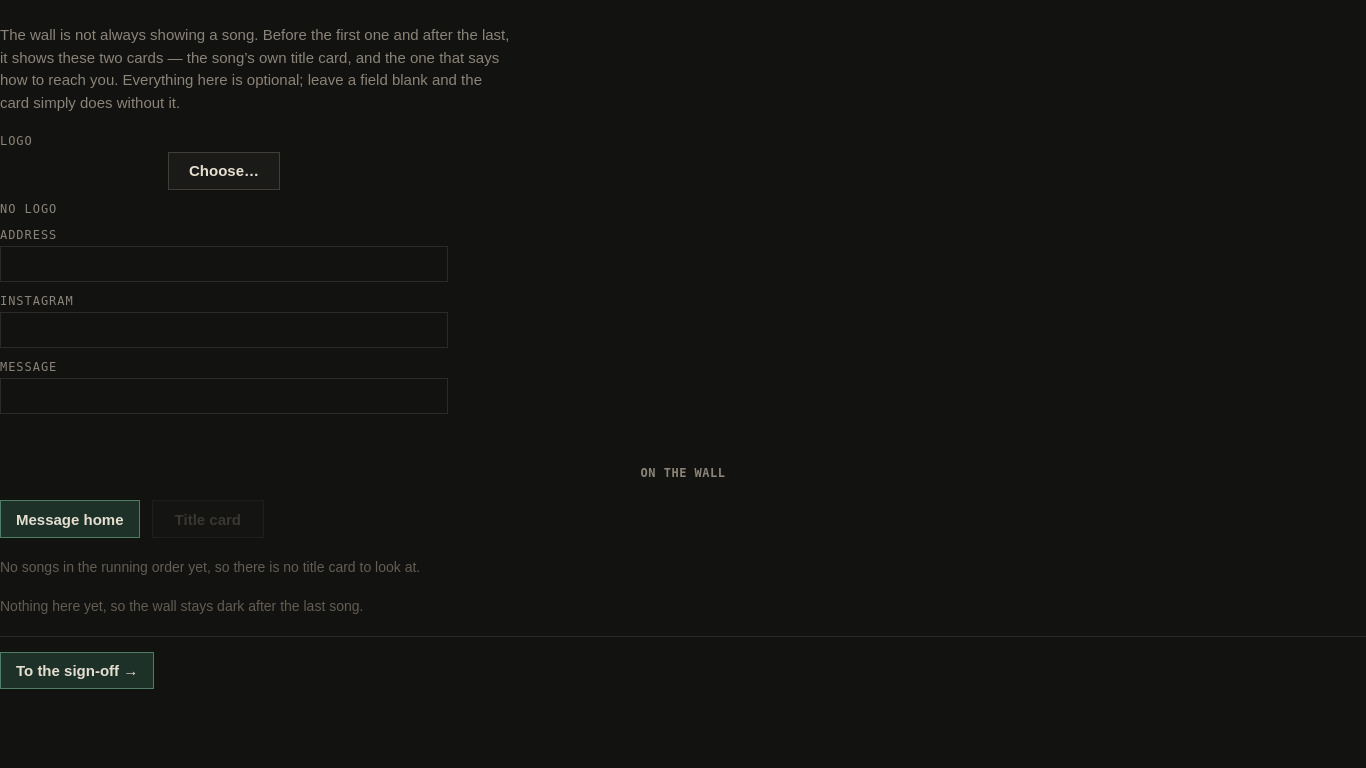
Scenario: the logo picker inherits the visuals-folder guard › says so when there is no visuals folder at all
This screenshot has width=1366, height=768.
Click the button with test id "gig-cards-logo-pick".
click(224, 171)  # box [168,152,280,190]
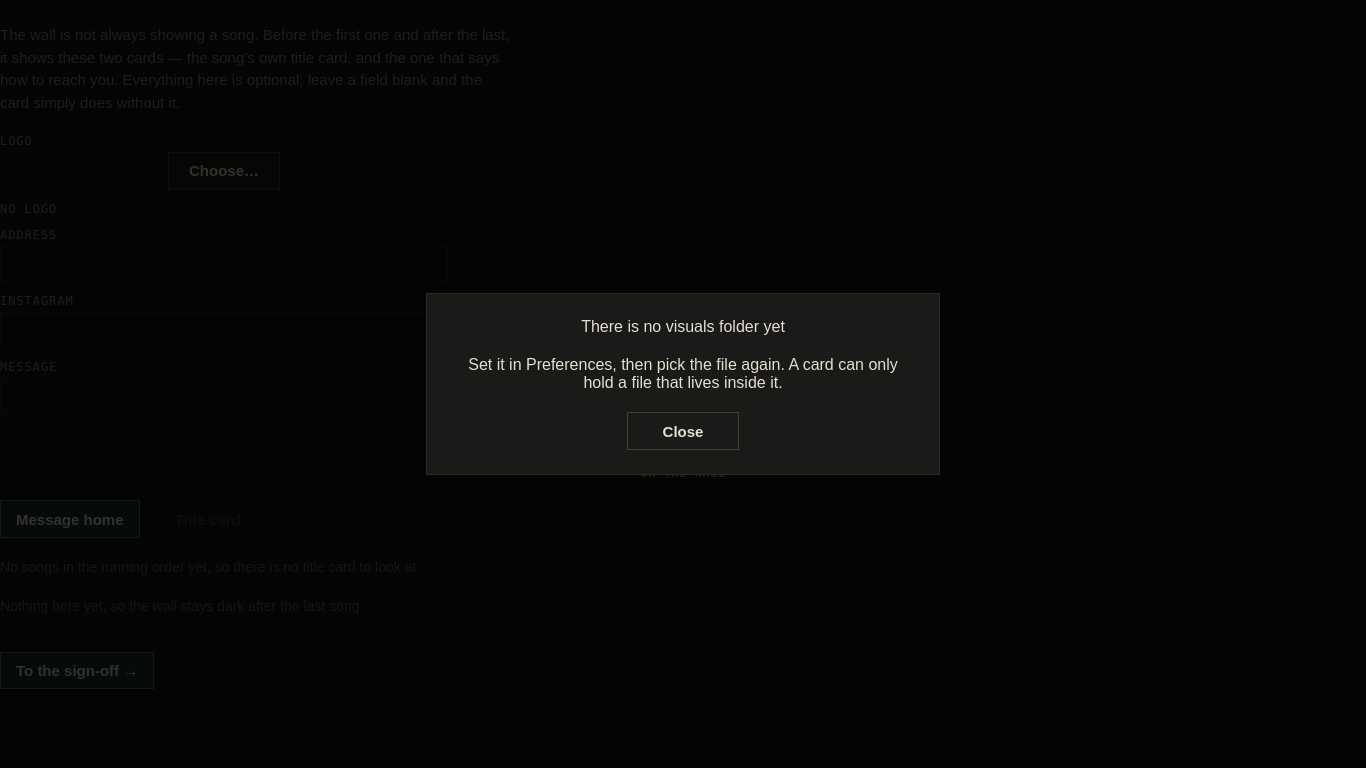
Now the element with test id "gig-cards-outside-popup" shows "no visuals folder", box [581,318,785,335]
